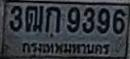3: (82, 7, 95, 33), (9, 5, 22, 31)
6: (112, 8, 125, 34)
9: (66, 6, 80, 33), (96, 8, 110, 33)
A01: (45, 6, 61, 32)
A18: (25, 5, 44, 32)
BKK: (21, 39, 111, 57)
